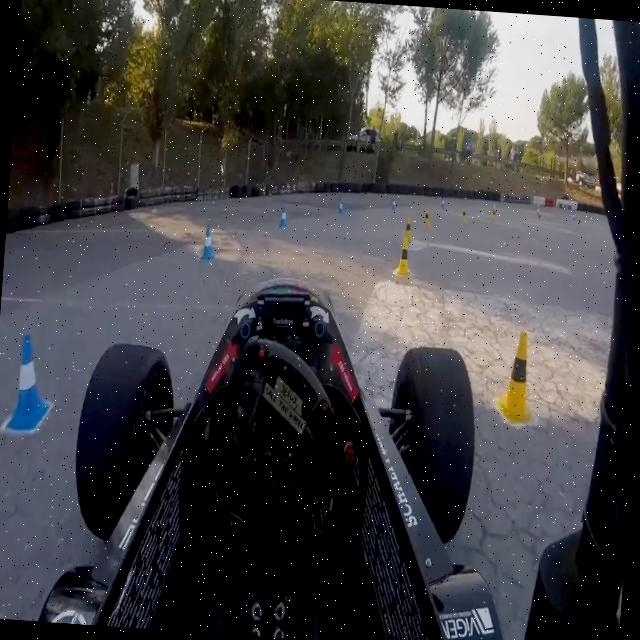blue_cone: (1, 331, 49, 436), (200, 222, 216, 260), (278, 204, 288, 226), (336, 192, 345, 214), (390, 196, 398, 214), (440, 195, 446, 212)
yellow_cone: (495, 330, 536, 427), (395, 236, 412, 276), (402, 212, 413, 242), (422, 204, 431, 228), (459, 204, 466, 220)
